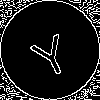Y: (25, 25, 75, 81)
